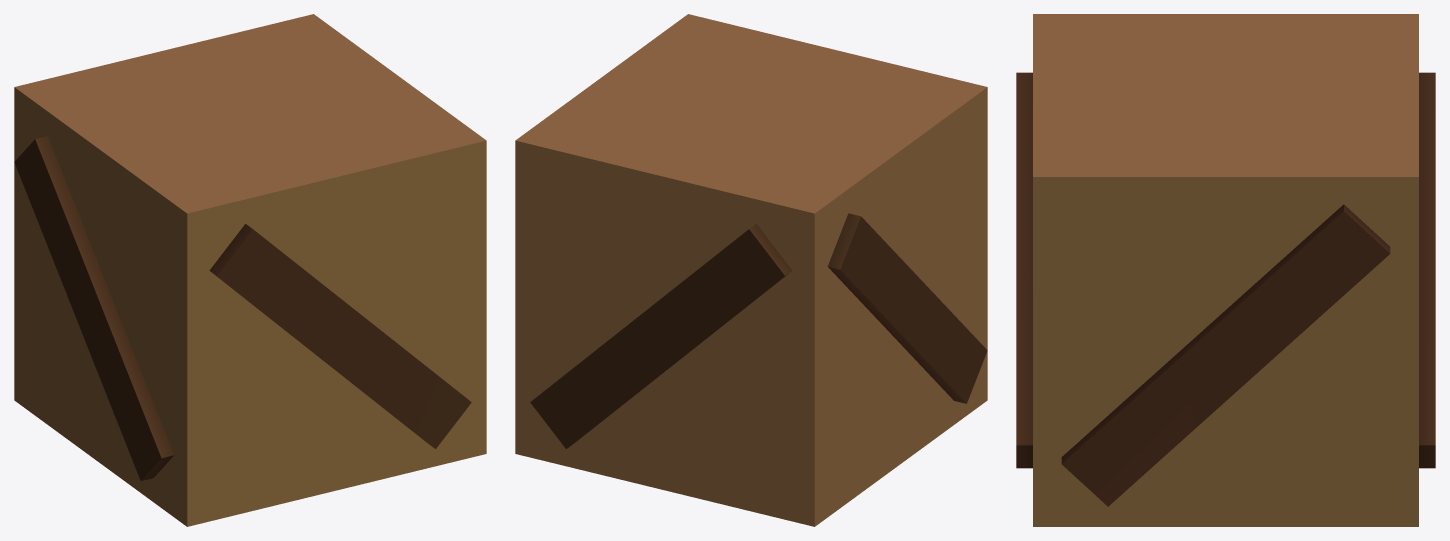
File: Meadow_Crate.fbx
3 views of the same model, side by side, from view 1: azimuth 30°, elevation 25°; view 2: azimuth 150°, elevation 25°; view 3: azimuth 270°, elevation 25° (orthographic). The views are drawn at different scales.
Visible parts, largest first — view 1: Meadow_Crate; view 2: Meadow_Crate; view 3: Meadow_Crate.
Part boxes in pixels (x1,y1,x2,y2): Meadow_Crate: (14,14,486,526); Meadow_Crate: (515,14,987,526); Meadow_Crate: (1016,14,1435,526).
Bounding box in the file's own units: 0.76 × 0.7 × 0.76.
